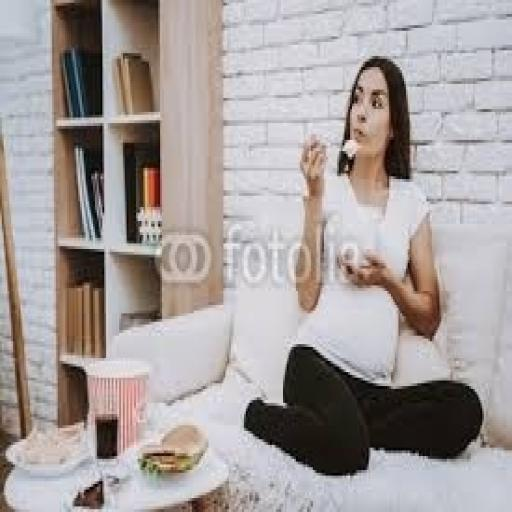sitting: (240, 53, 484, 479)
